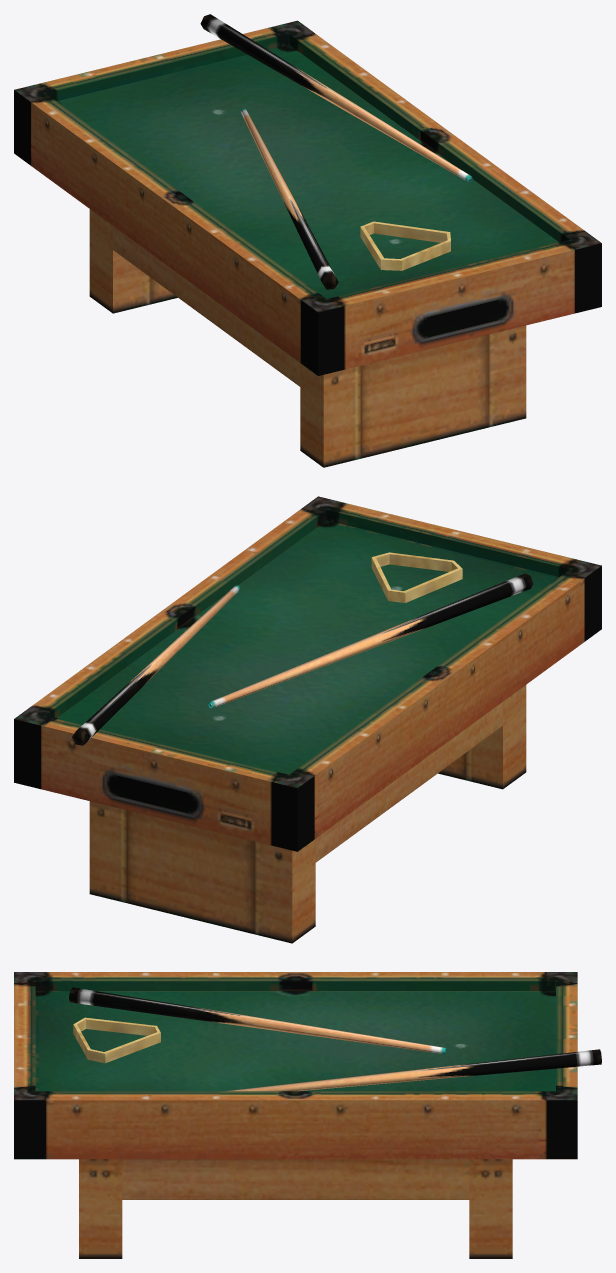
Rendered from pooltable5.fbx.
3 views of the same model, one above another, from view 1: azimuth 30°, elevation 25°; view 2: azimuth 150°, elevation 25°; view 3: azimuth 270°, elevation 25° (orthographic). The views are drawn at different scales.
Visible parts, largest first — view 1: mesh_0; view 2: mesh_0; view 3: mesh_0.
Part boxes in pixels (left/top/right/bottom): mesh_0: left=14, top=14, right=601, bottom=467; mesh_0: left=14, top=496, right=601, bottom=943; mesh_0: left=14, top=972, right=601, bottom=1258.
Size of the model in its own units: 140 by 97.22 by 271.
1 material, 1 textured.
